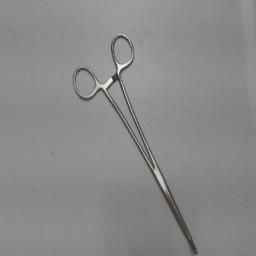Lahey Forceps: (70, 26, 202, 254)
